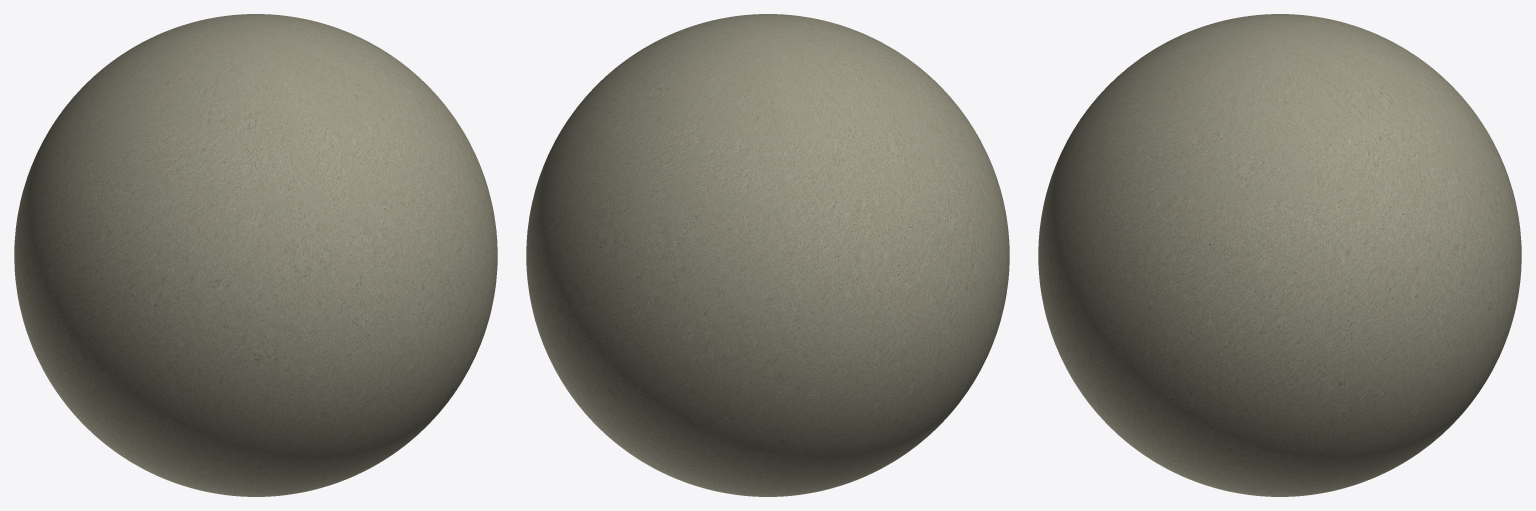
File: leather_white_1k.obj
3 views of the same model, side by side, from view 1: azimuth 30°, elevation 25°; view 2: azimuth 150°, elevation 25°; view 3: azimuth 270°, elevation 25° (orthographic).
Visible parts, largest first — view 1: Sphere; view 2: Sphere; view 3: Sphere.
Boxes of the visible parts, left/top/right/bottom form: Sphere: left=14, top=14, right=497, bottom=496; Sphere: left=526, top=14, right=1009, bottom=496; Sphere: left=1038, top=14, right=1521, bottom=496.
Bounding box in the file's own units: 0.3 × 0.3 × 0.3.
1 material, 1 textured.
